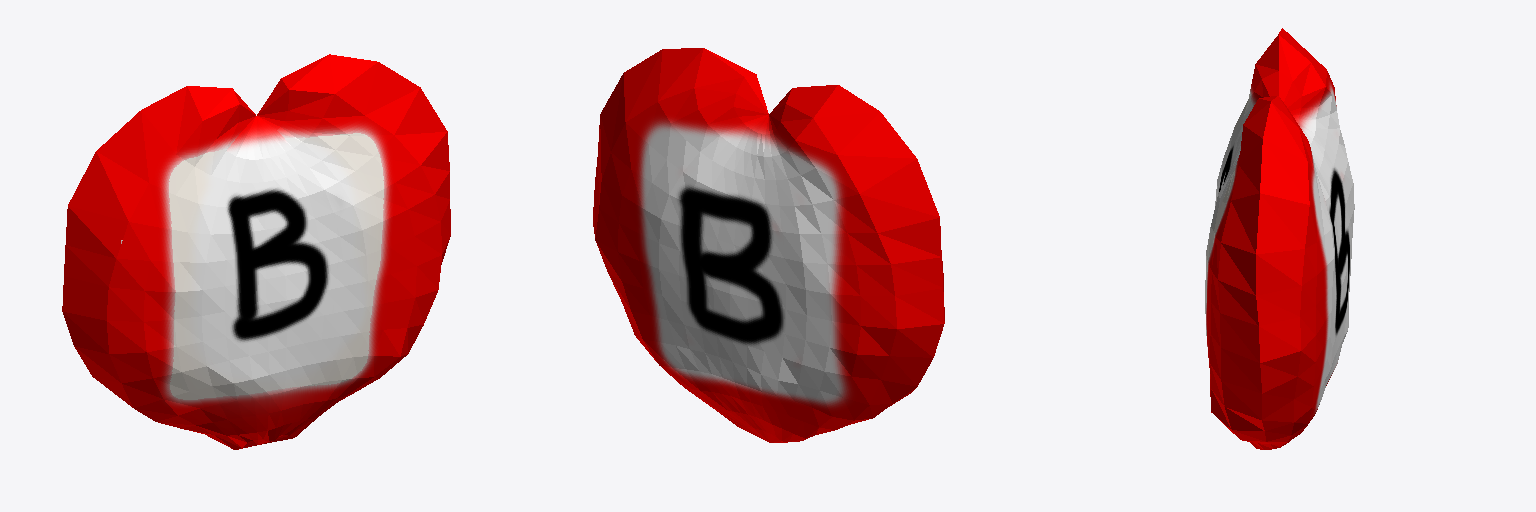
The picture shows the model from 3 angles: view 1: azimuth 30°, elevation 25°; view 2: azimuth 150°, elevation 25°; view 3: azimuth 270°, elevation 25°; orthographic projection.
Visible parts, largest first — view 1: 球; view 2: 球; view 3: 球.
Part boxes in pixels (bbox=[...]): 球: bbox=[62, 54, 450, 449]; 球: bbox=[593, 48, 944, 442]; 球: bbox=[1205, 28, 1354, 449].
Bounding box in the file's own units: 2.59 × 2.52 × 0.9053.
Materials: 1 (1 with a texture image).